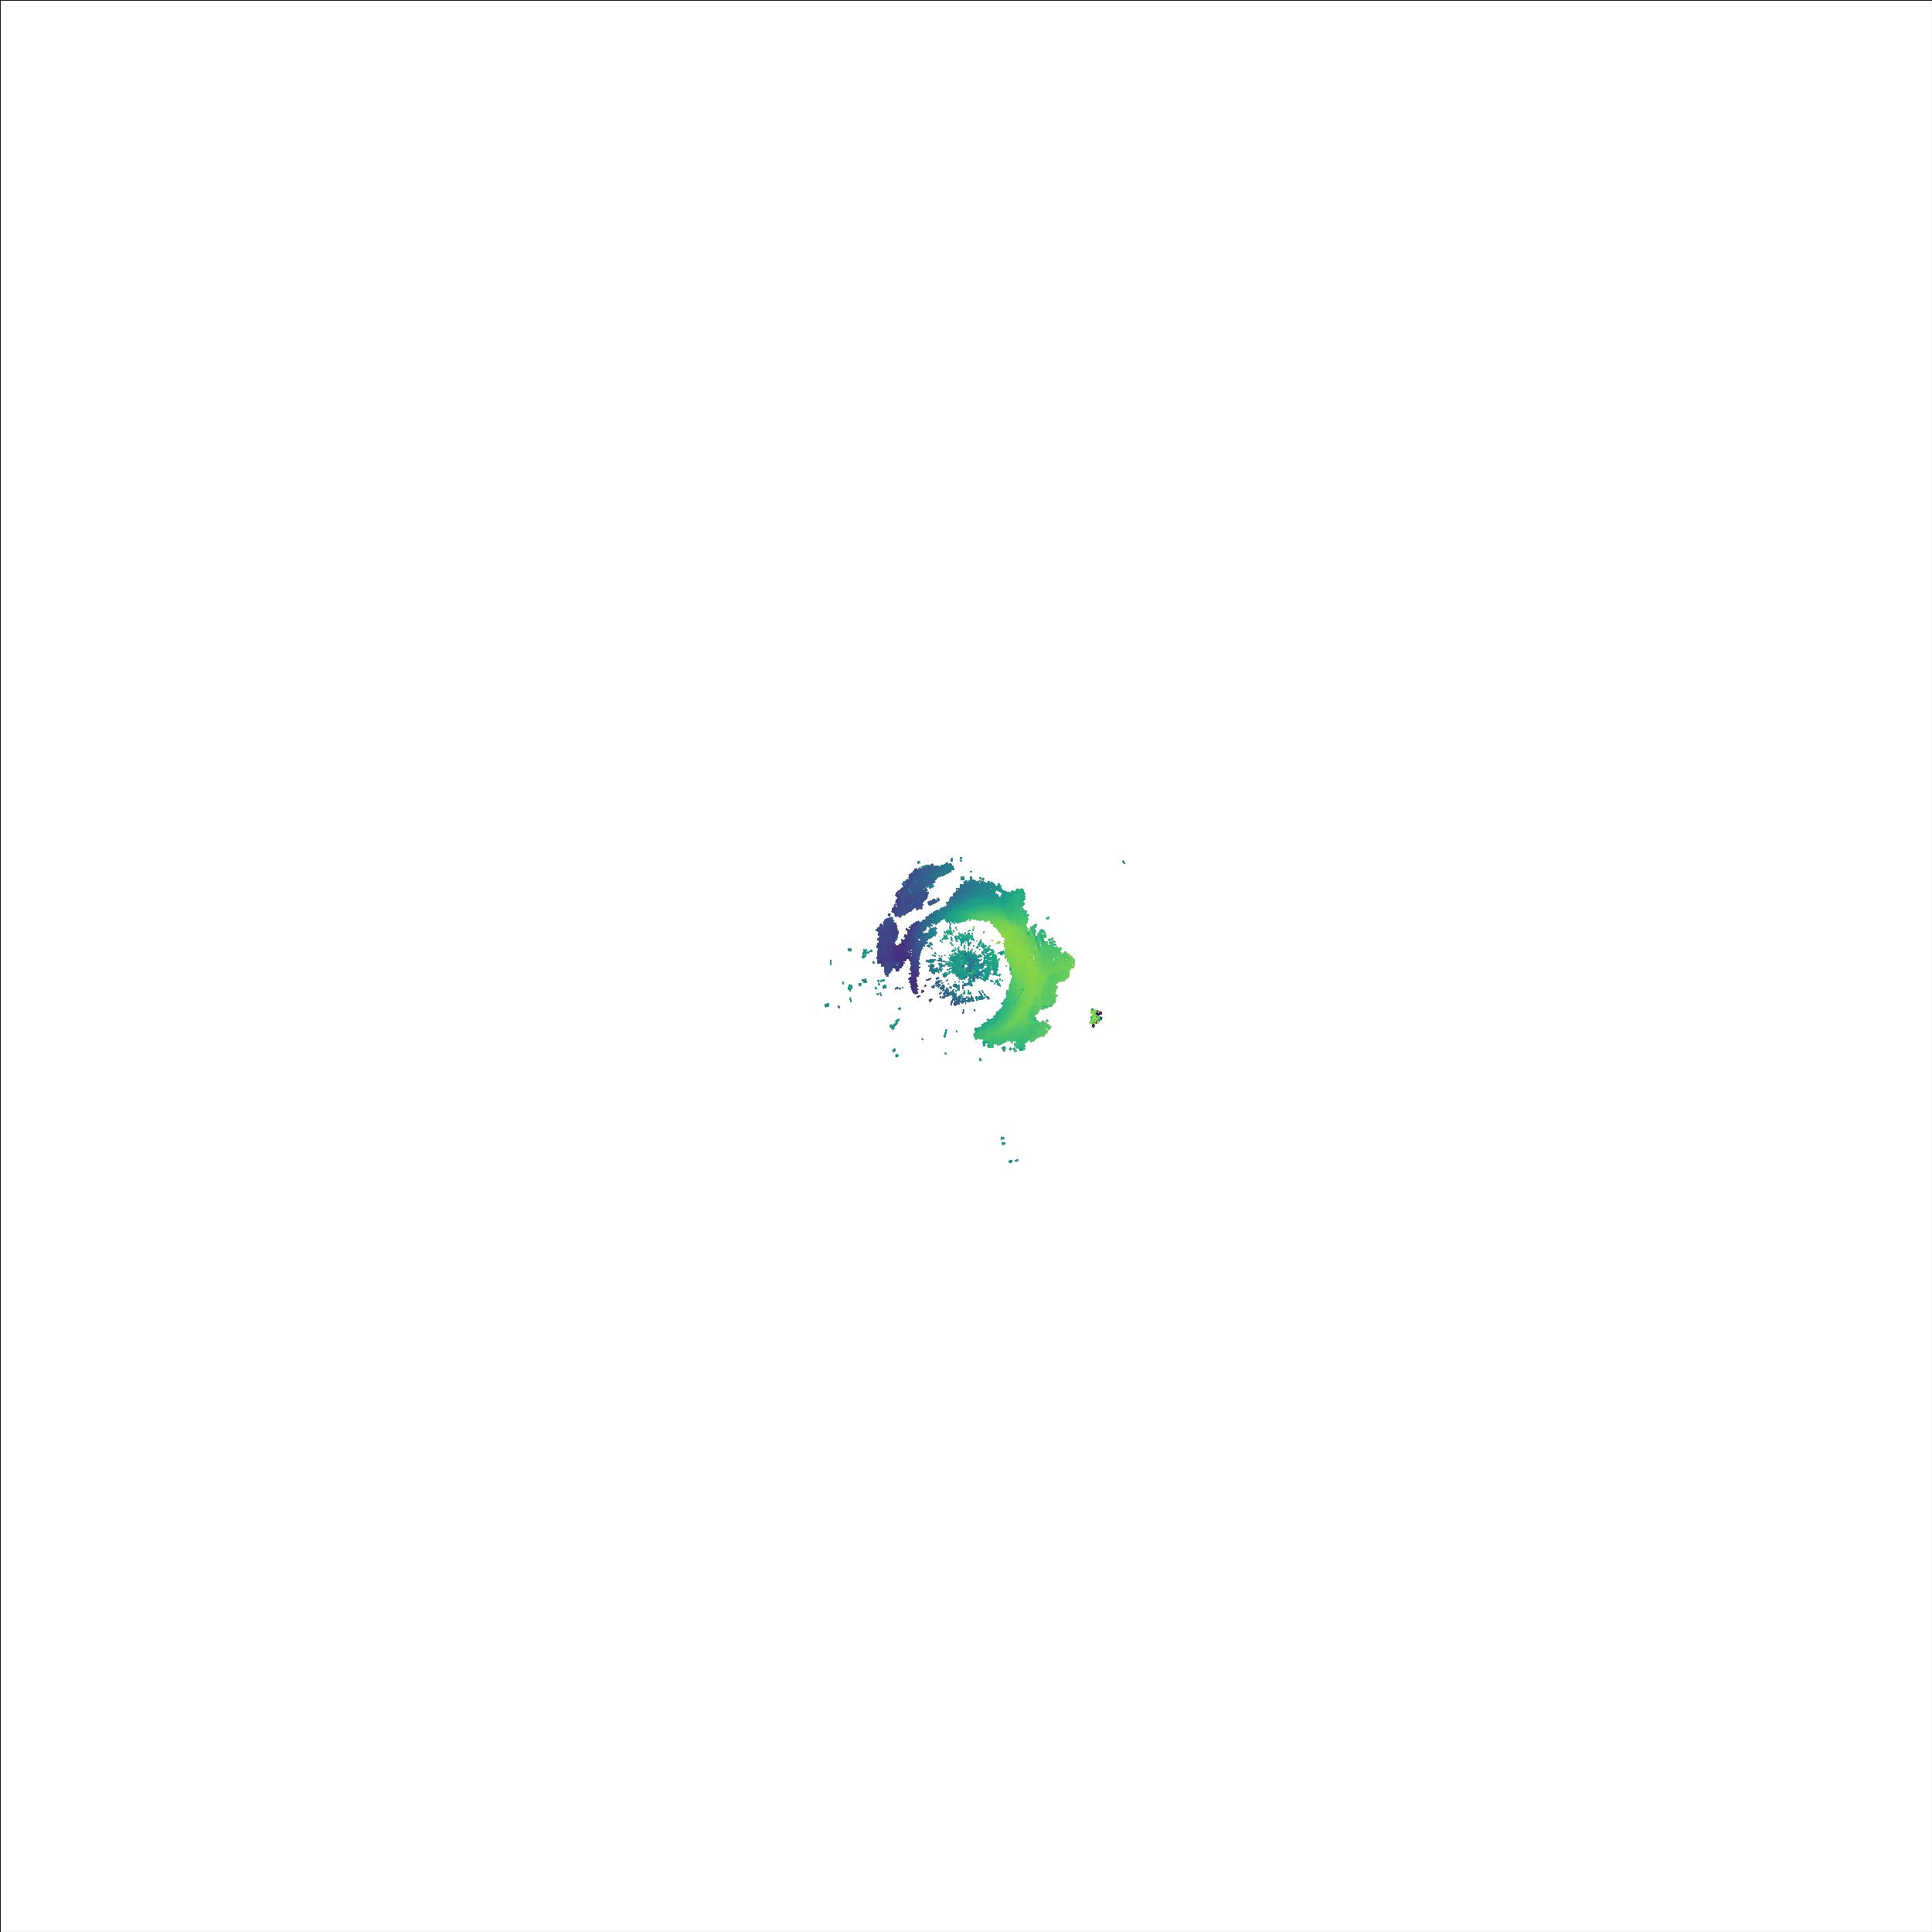fall: (1083, 1003, 1108, 1030)
